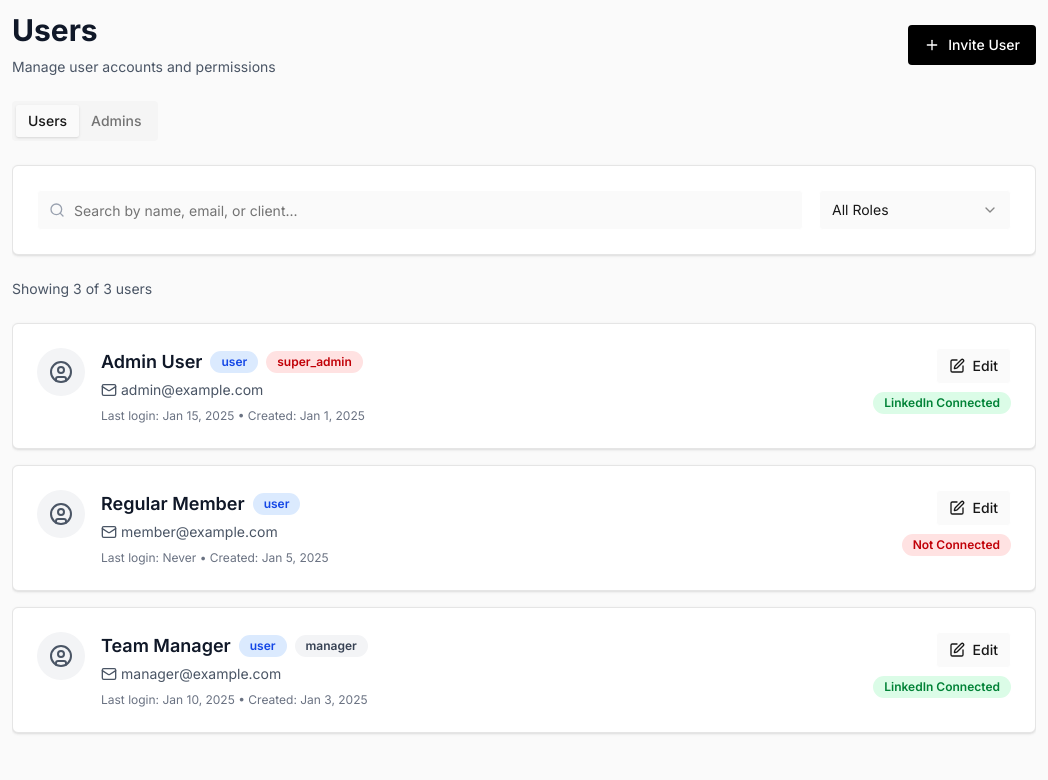
Test: Admin Users Page › Search Functionality › should filter users by email
Expected: the heading "Admin User" is shown, top-left (101, 348), bottom-right (202, 376)
Type "admin@" into the field with placeholder "Search by name, email, or client..." at (420, 210), box top-left (37, 190), bottom-right (803, 230)
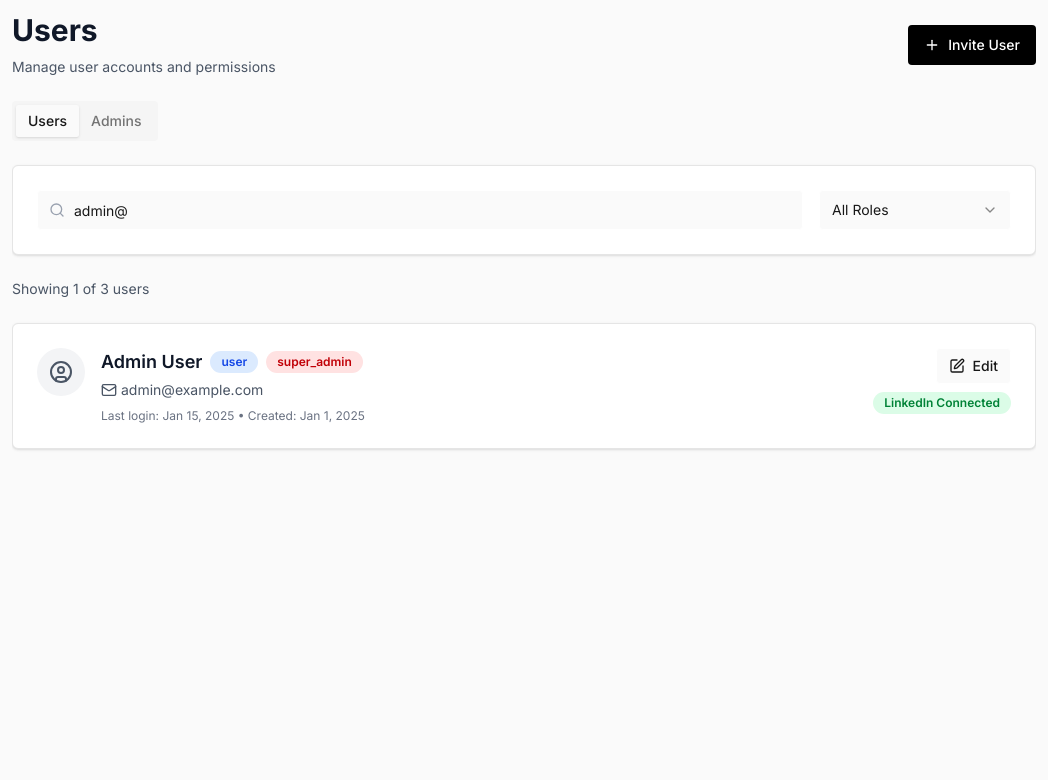
Expected: the heading "Admin User" is shown, top-left (101, 348), bottom-right (202, 376)
Now the heading "Regular Member" is gone
Now the heading "Team Manager" is gone
